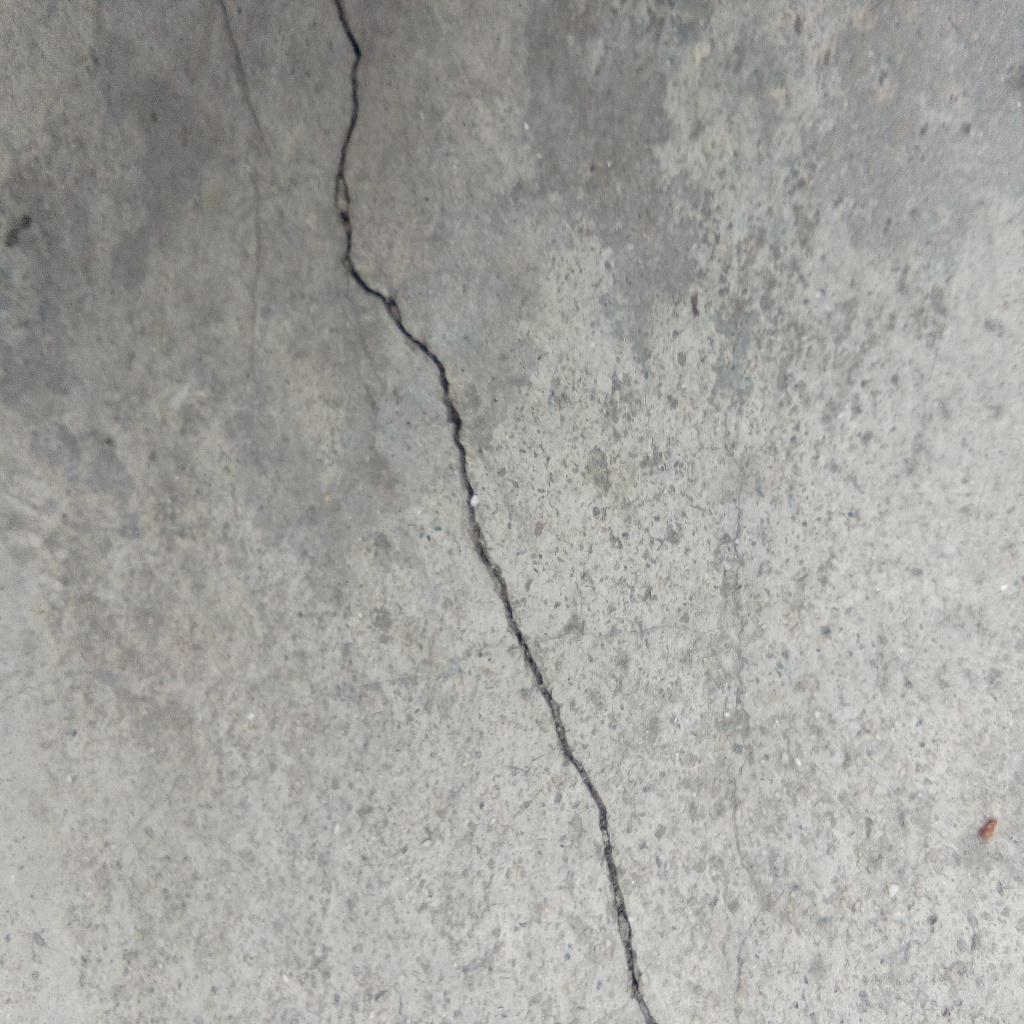Crack: (333, 1, 658, 1024)
